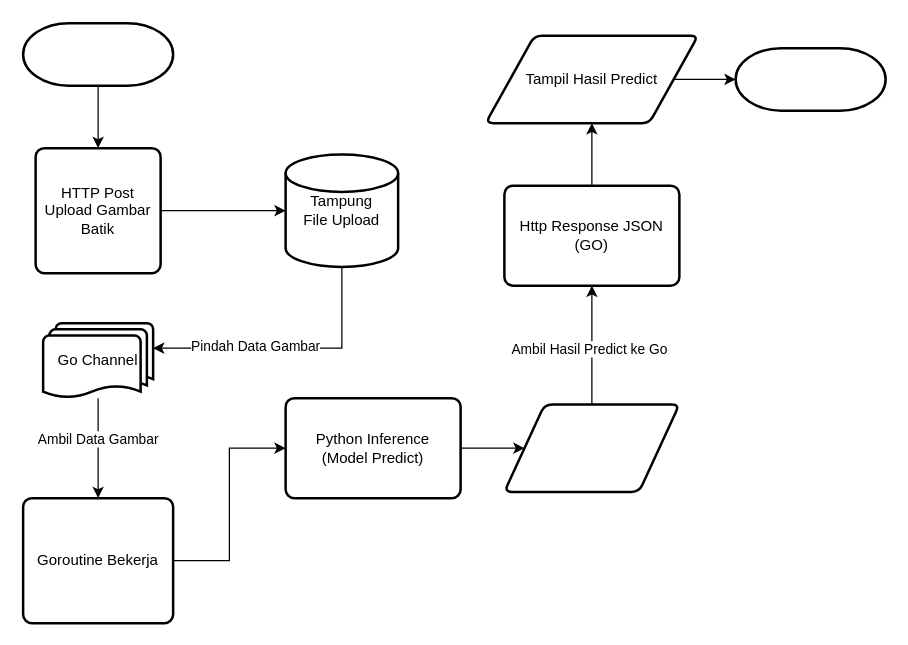
Some shapes in this 908 by 645 pixel diagram are drawn without their labels. Here are the shapes that lost their labels. From the top down, the centre of each, then its label:
At pixel 97 53: "Mulai".
At pixel 810 78: "Selesai".
At pixel 591 447: "JSON Data".
